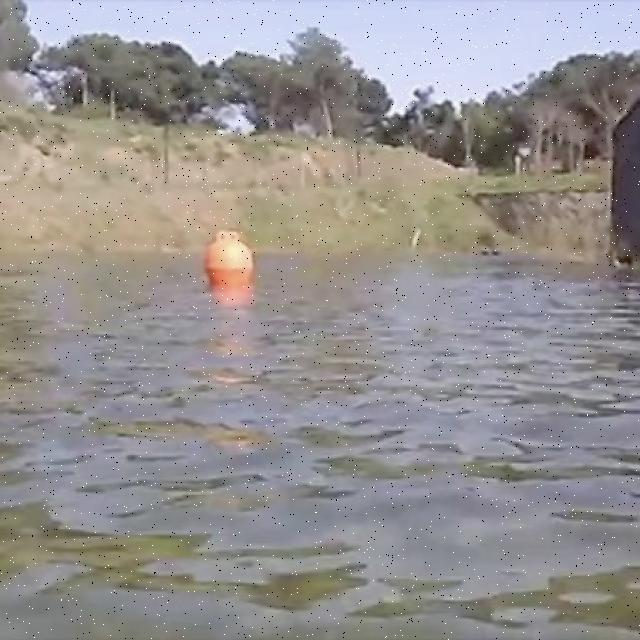buoy: (203, 229, 255, 289)
